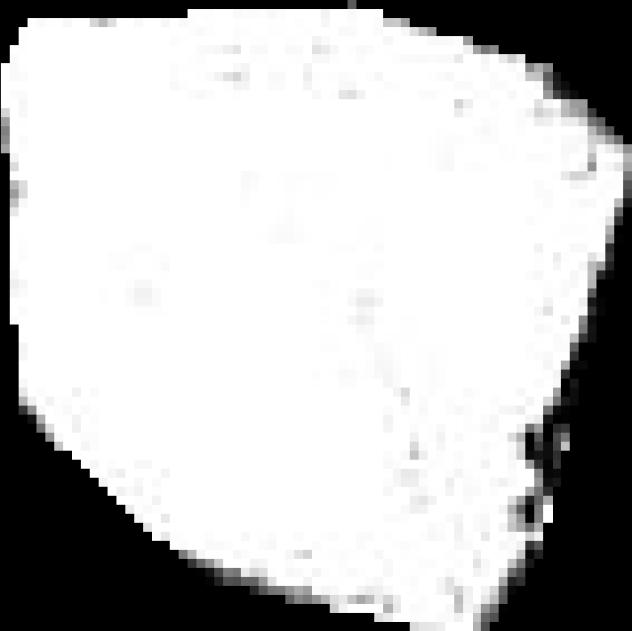tumor_good_chance: (1, 0, 632, 631)
